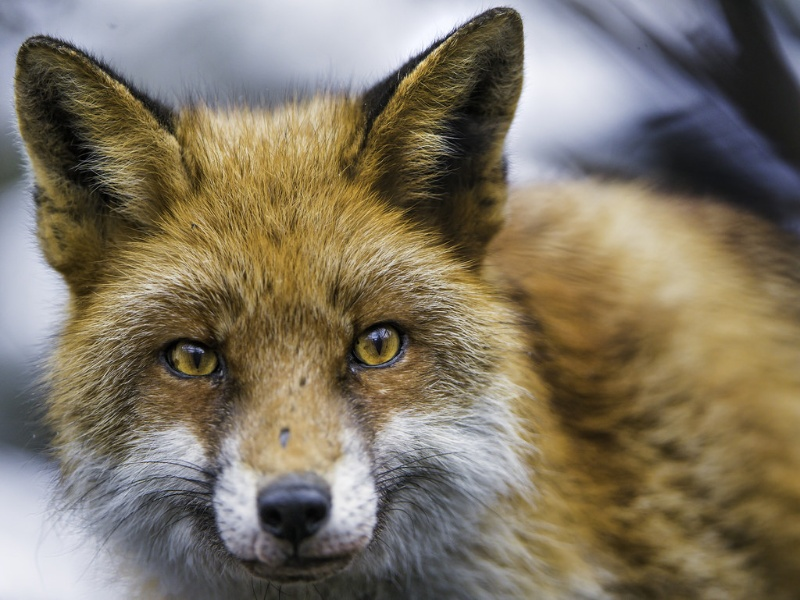fox: (11, 15, 797, 600)
